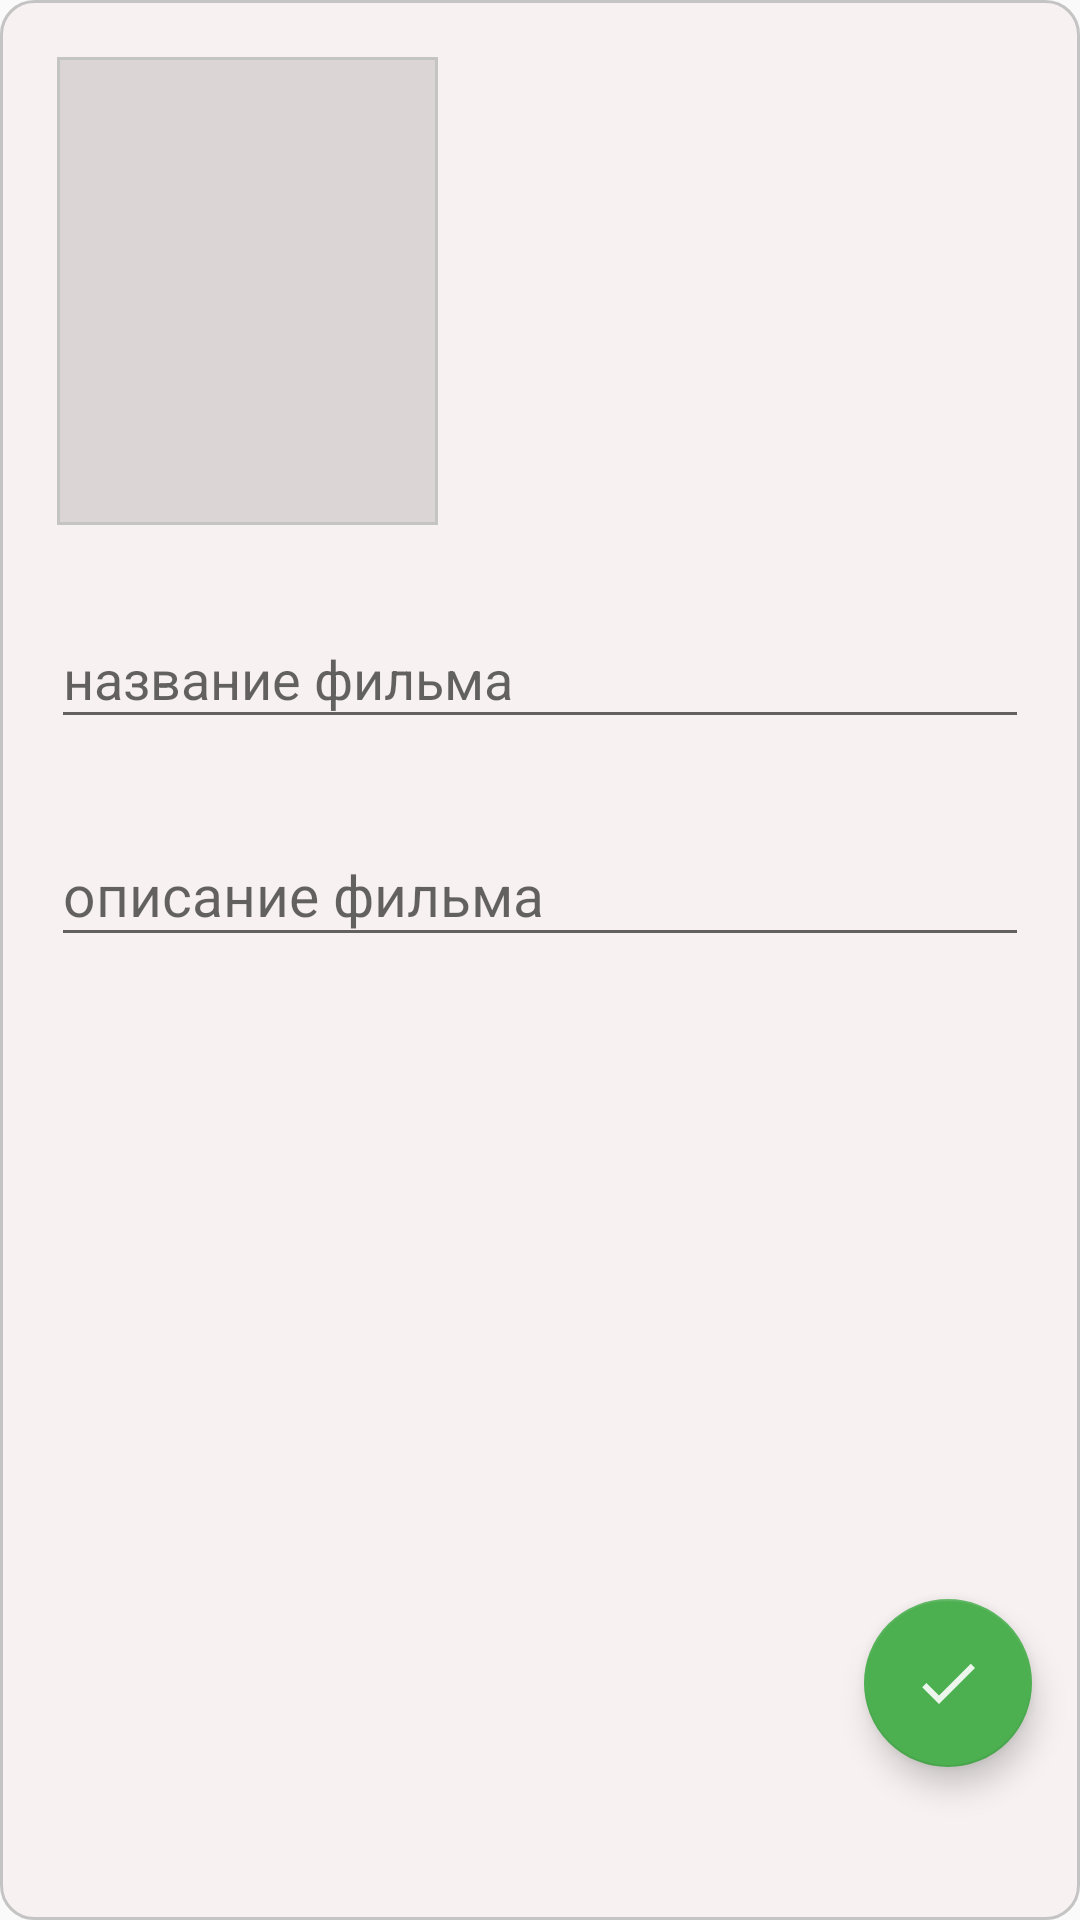

Where to tap for icons on this 1080 × 1920 app screen, as (x,y):
done: (948,1683)
